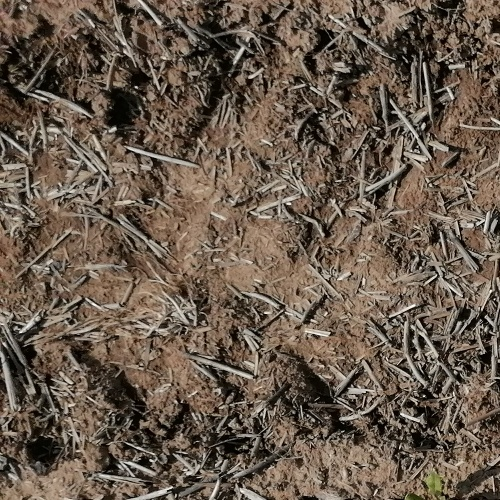beet: (404, 468, 447, 500)
